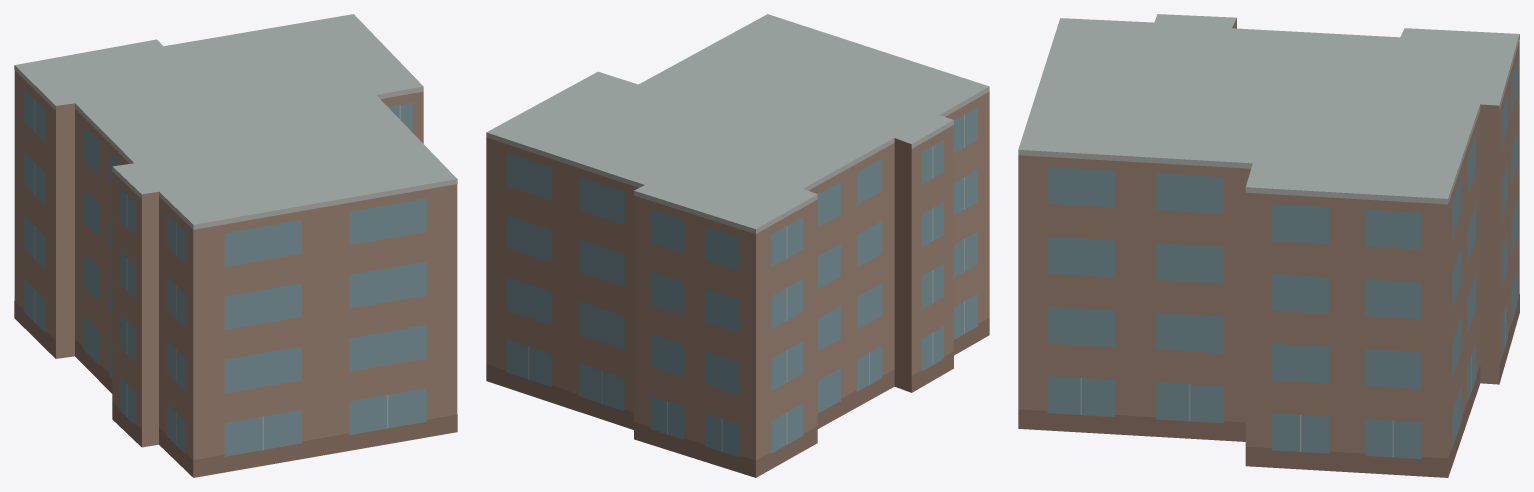
The model's file is survey-upis-32630202.glb.
3 views of the same model, side by side, from view 1: azimuth 30°, elevation 25°; view 2: azimuth 150°, elevation 25°; view 3: azimuth 270°, elevation 25° (orthographic). The views are drawn at different scales.
Parts seen in each view (by area): view 1: survey-upis-32630202.tmp; view 2: survey-upis-32630202.tmp; view 3: survey-upis-32630202.tmp.
Boxes of the visible parts, x1,y1,x2,y2 form: survey-upis-32630202.tmp: [14, 14, 457, 477]; survey-upis-32630202.tmp: [486, 14, 989, 477]; survey-upis-32630202.tmp: [1018, 14, 1519, 477].
Size of the model in its own units: 17.64 by 12.4 by 20.22.
